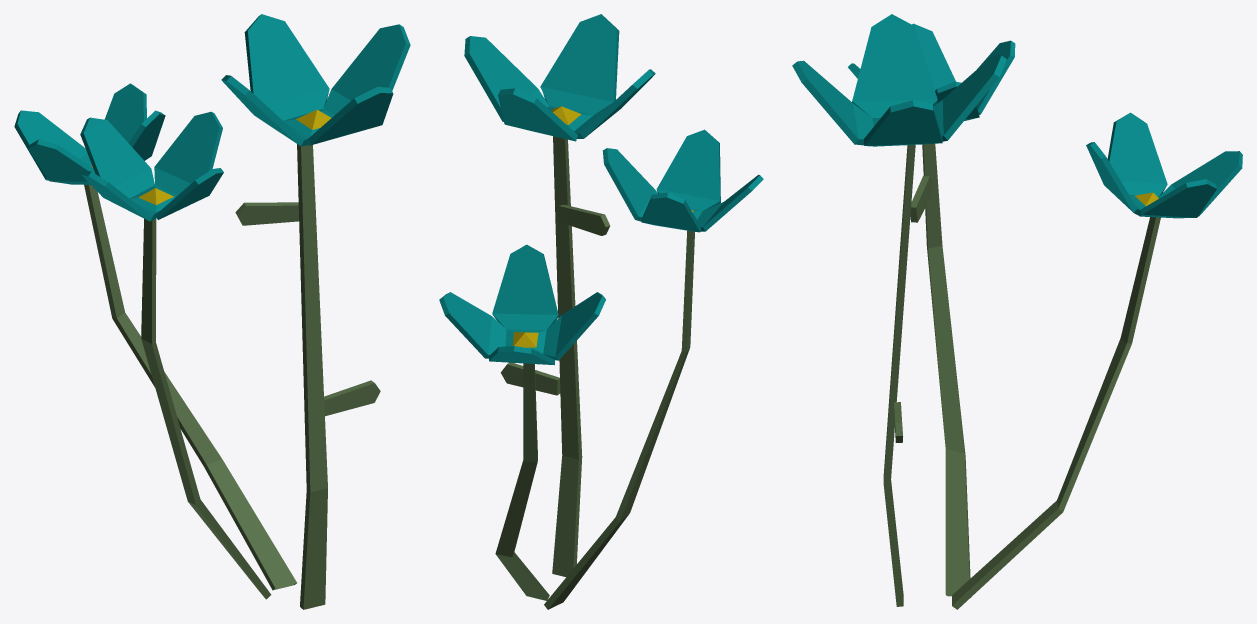
File: flowers.fbx
3 renders of one model, left to right at view 1: azimuth 30°, elevation 25°; view 2: azimuth 150°, elevation 25°; view 3: azimuth 270°, elevation 25°, orthographic. The views are drawn at different scales.
Parts seen in each view (by area): view 1: flowers; view 2: flowers; view 3: flowers.
Part boxes in pixels (left/top/right/bottom): flowers: left=14, top=14, right=410, bottom=609; flowers: left=439, top=14, right=763, bottom=609; flowers: left=792, top=14, right=1242, bottom=609.
Size of the model in its own units: 0.4895 by 0.8289 by 0.6137.
